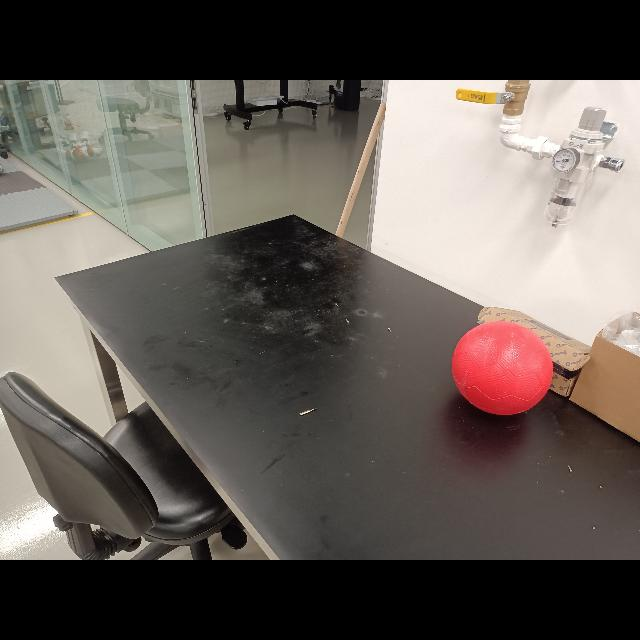R: (452, 320, 554, 416)
